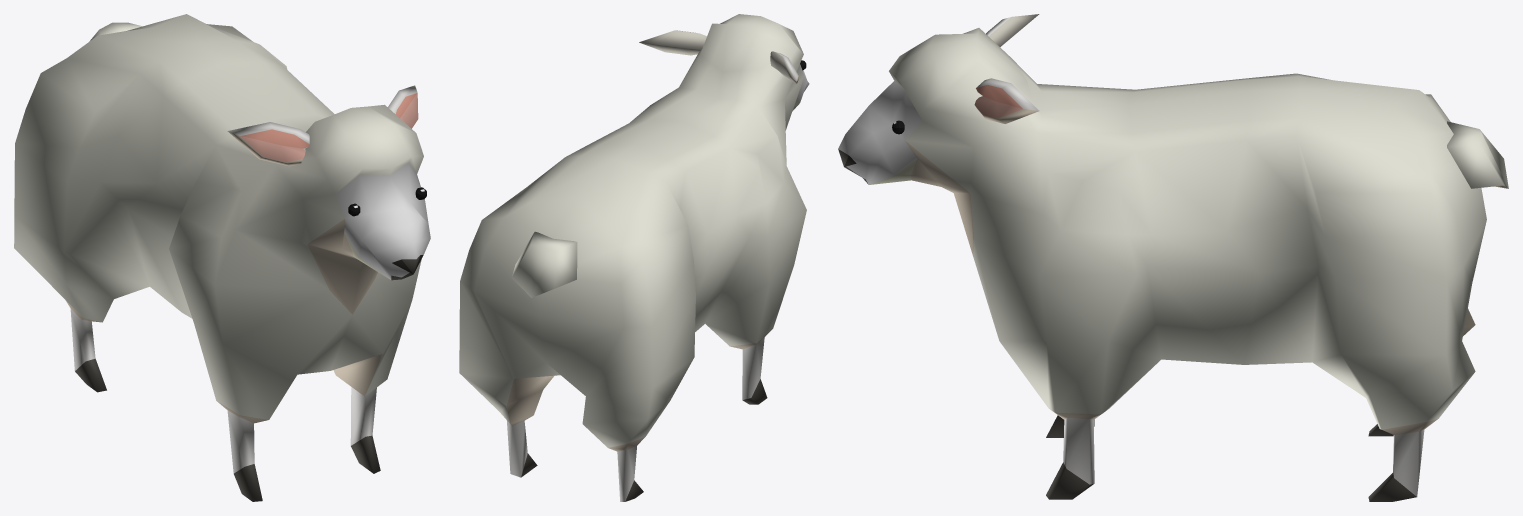
Rendered from sheep.glb.
3 views of the same model, side by side, from view 1: azimuth 30°, elevation 25°; view 2: azimuth 150°, elevation 25°; view 3: azimuth 270°, elevation 25° (orthographic). The views are drawn at different scales.
Visible parts, largest first — view 1: sheep; view 2: sheep; view 3: sheep.
Boxes of the visible parts, x1,y1,x2,y2 form: sheep: [14, 14, 430, 501]; sheep: [459, 14, 809, 501]; sheep: [838, 14, 1508, 501].
Size of the model in its own units: 0.532 by 0.8928 by 1.27.
